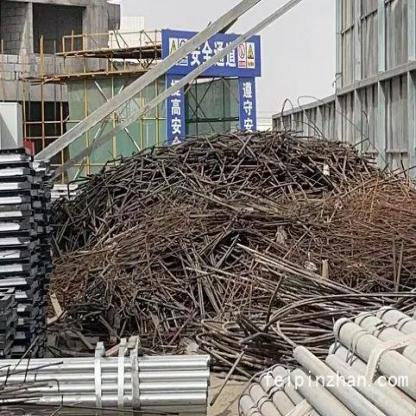rebar: (46, 126, 415, 377)
